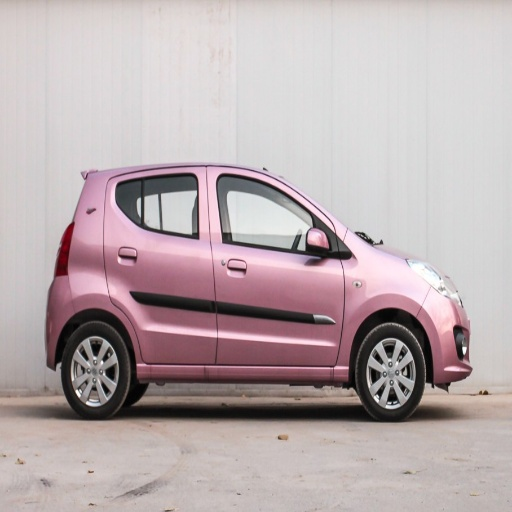back_right_door: (105, 171, 217, 372)
front_right_door: (209, 169, 345, 369)
